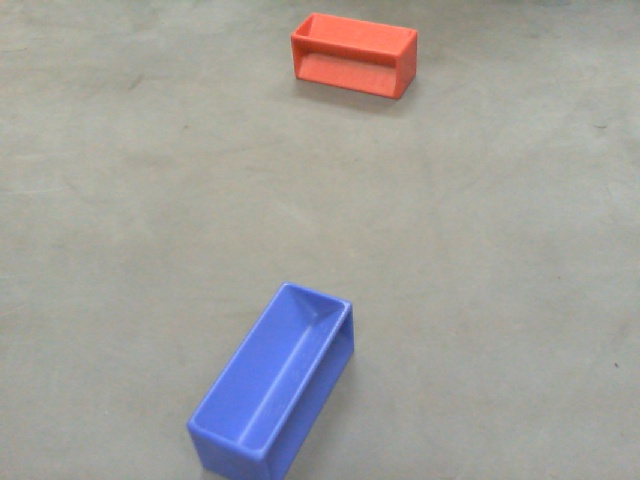BlueSample: (183, 280, 363, 480)
RedSample: (289, 10, 422, 102)
